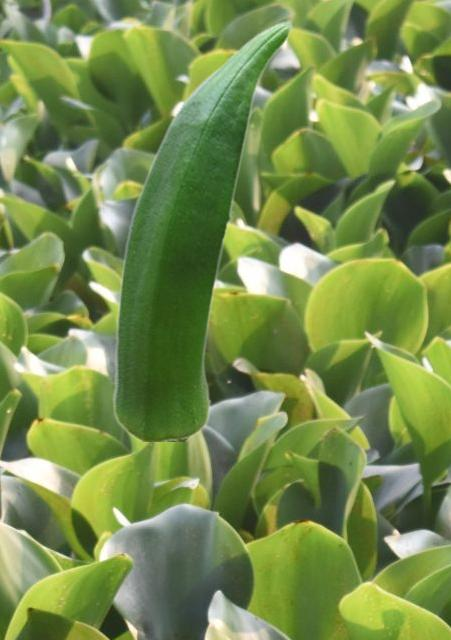okra: (111, 20, 292, 440)
